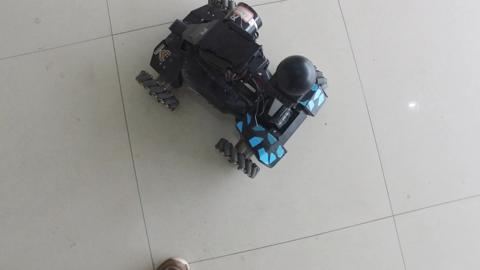chariot: (135, 1, 313, 182)
